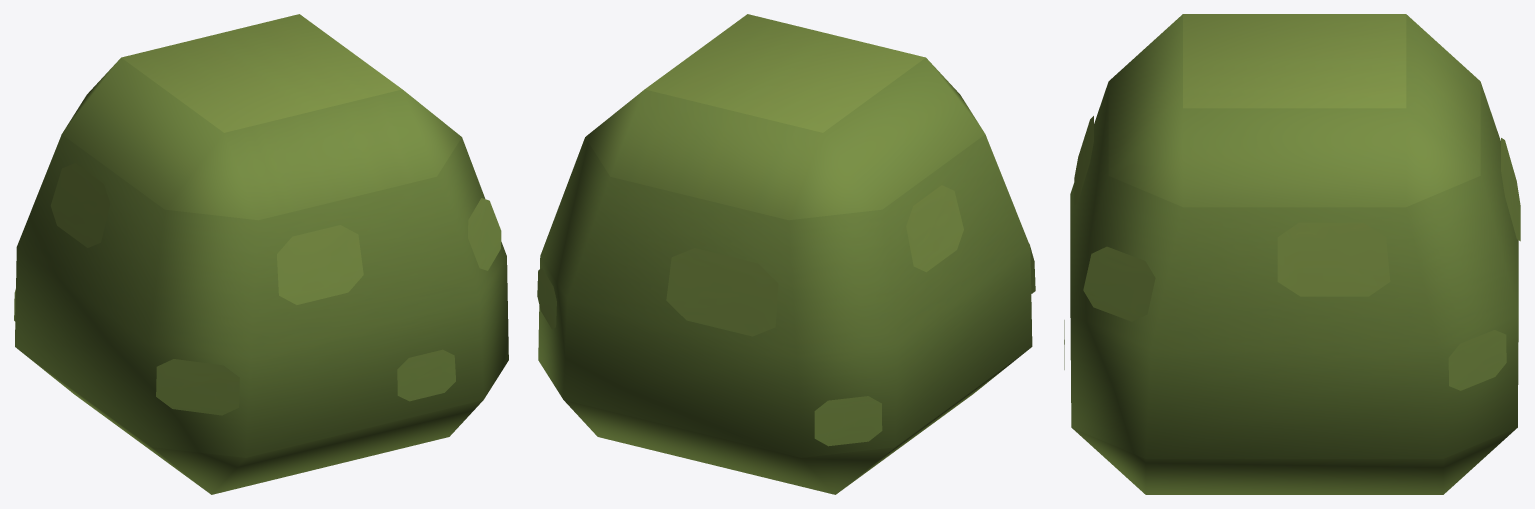
The model's file is bush_small.fbx.
The picture shows the model from 3 angles, left to right: view 1: azimuth 30°, elevation 25°; view 2: azimuth 150°, elevation 25°; view 3: azimuth 270°, elevation 25°; orthographic projection. The views are drawn at different scales.
Visible parts, largest first — view 1: bush_small; view 2: bush_small; view 3: bush_small.
Boxes of the visible parts, bbox=[...] form: bush_small: bbox=[14, 14, 508, 494]; bush_small: bbox=[537, 14, 1035, 494]; bush_small: bbox=[1064, 14, 1520, 494].
Bounding box in the file's own units: 120 × 110 × 123.
